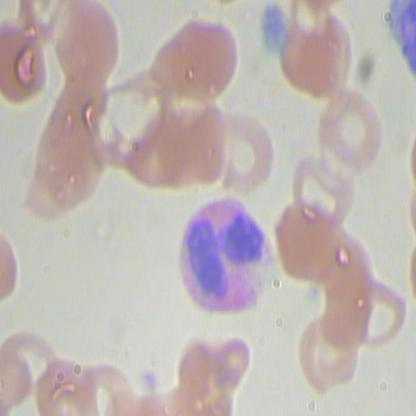Platelets: (257, 2, 286, 52), (136, 363, 164, 393)
RBC: (148, 11, 243, 105), (278, 1, 365, 99), (209, 101, 284, 205), (283, 127, 358, 231), (311, 72, 386, 175), (269, 191, 344, 294), (49, 1, 129, 94), (127, 96, 191, 191), (16, 131, 80, 225), (345, 269, 410, 357), (311, 263, 375, 352), (312, 217, 376, 305), (296, 306, 360, 394), (1, 10, 52, 111), (1, 323, 64, 399), (28, 355, 86, 415), (81, 355, 138, 415)
WBC: (170, 190, 276, 330)
